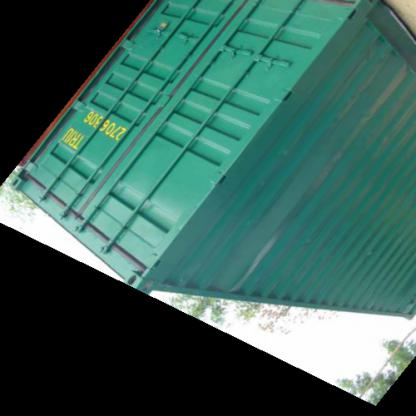Damage: (366, 27, 412, 79), (363, 234, 391, 284), (254, 174, 274, 198), (298, 232, 316, 256)
